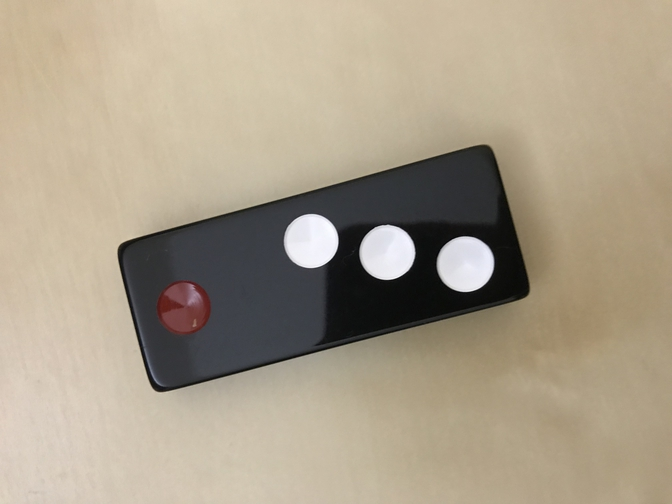goose: (116, 145, 530, 393)
